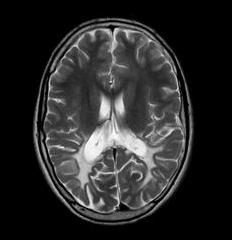Normal_Brain: (1, 2, 232, 240)
